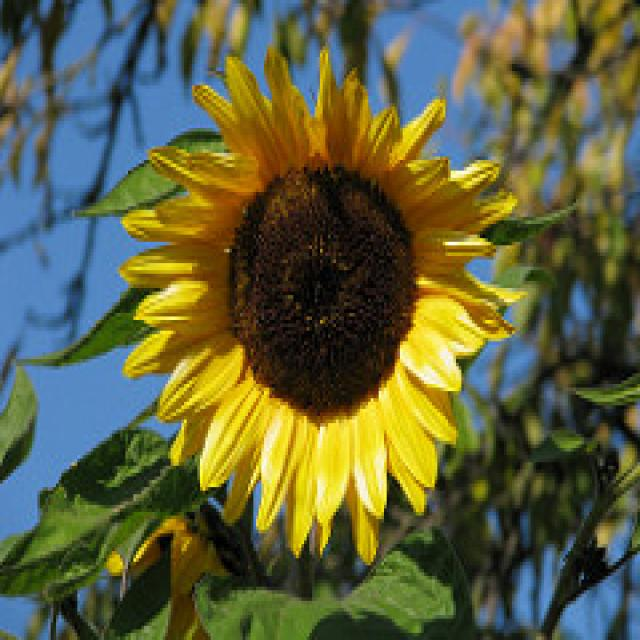sunflower: (108, 44, 516, 564)
